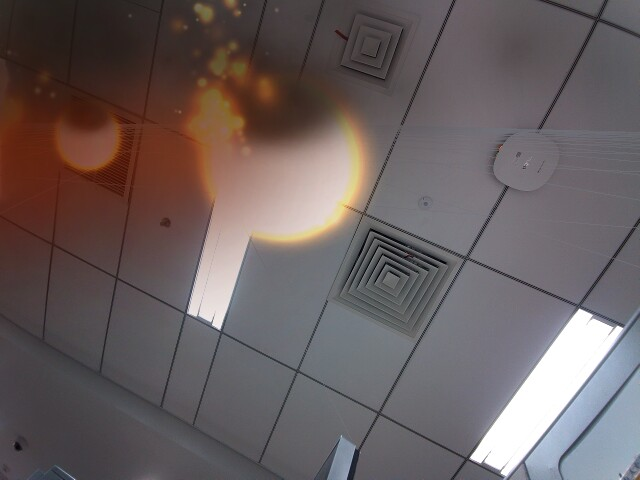fire: (198, 73, 365, 248), (53, 100, 126, 172)
